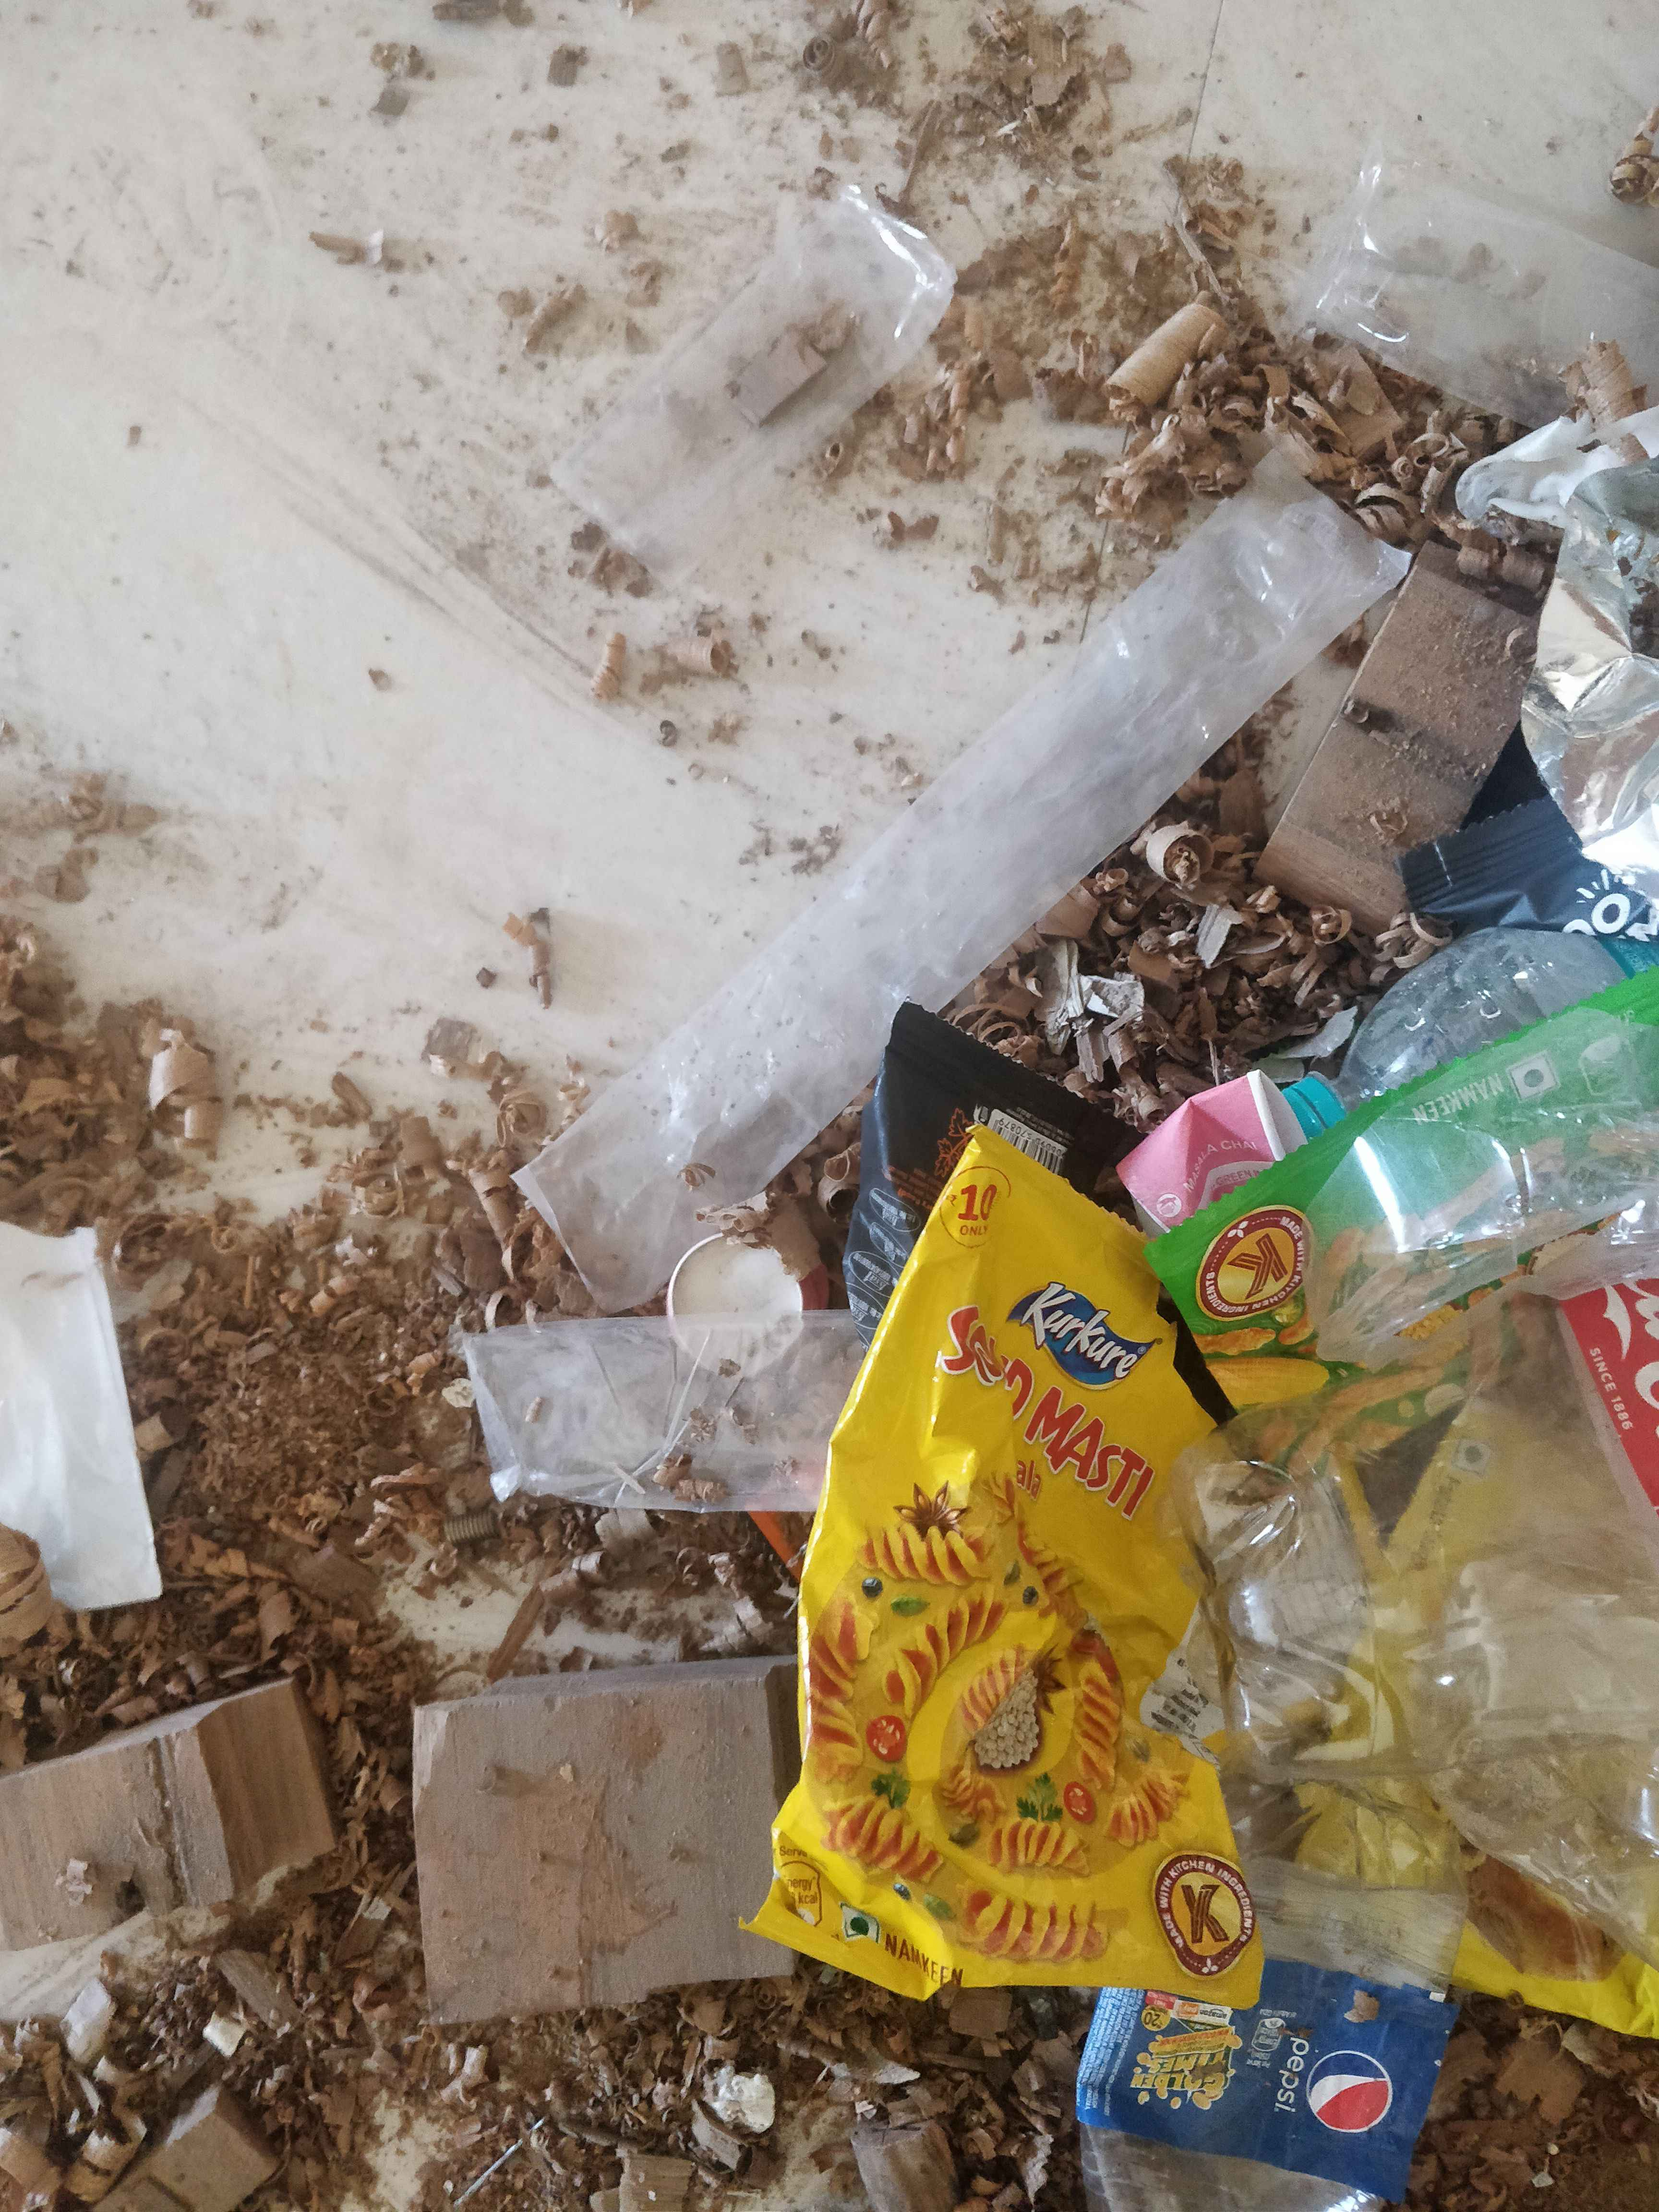Coca-Cola: (1560, 1254, 1659, 1475)
kurkure: (993, 1235, 1162, 1392)
pepsi: (1244, 1961, 1420, 2160)
tooyumm: (1516, 840, 1659, 960)
